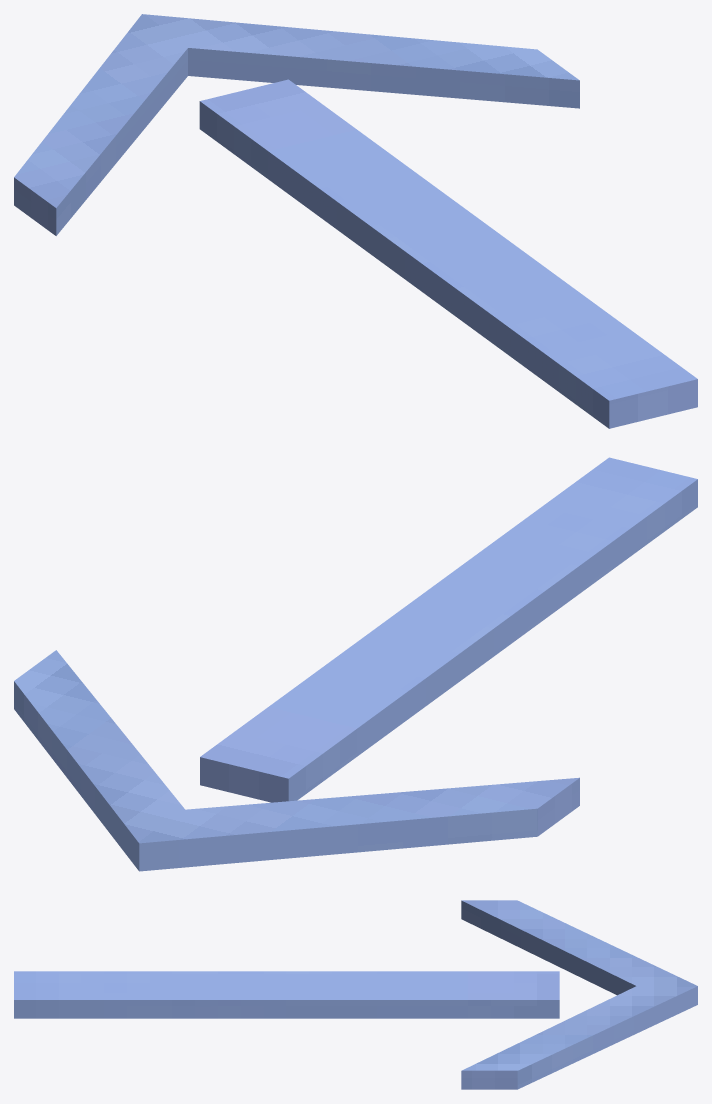
The model's file is arrow.dae.
3 renders of one model, top to bottom at view 1: azimuth 30°, elevation 25°; view 2: azimuth 150°, elevation 25°; view 3: azimuth 270°, elevation 25°, orthographic. The views are drawn at different scales.
Parts seen in each view (by area): view 1: Plane; view 2: Plane; view 3: Plane.
Part boxes in pixels (x1,y1,x2,y2): Plane: (14,14,697,428); Plane: (14,457,697,871); Plane: (14,900,697,1089).
Size of the model in its own units: 0.1382 by 0.2345 by 0.00709.
1 material, 1 textured.
